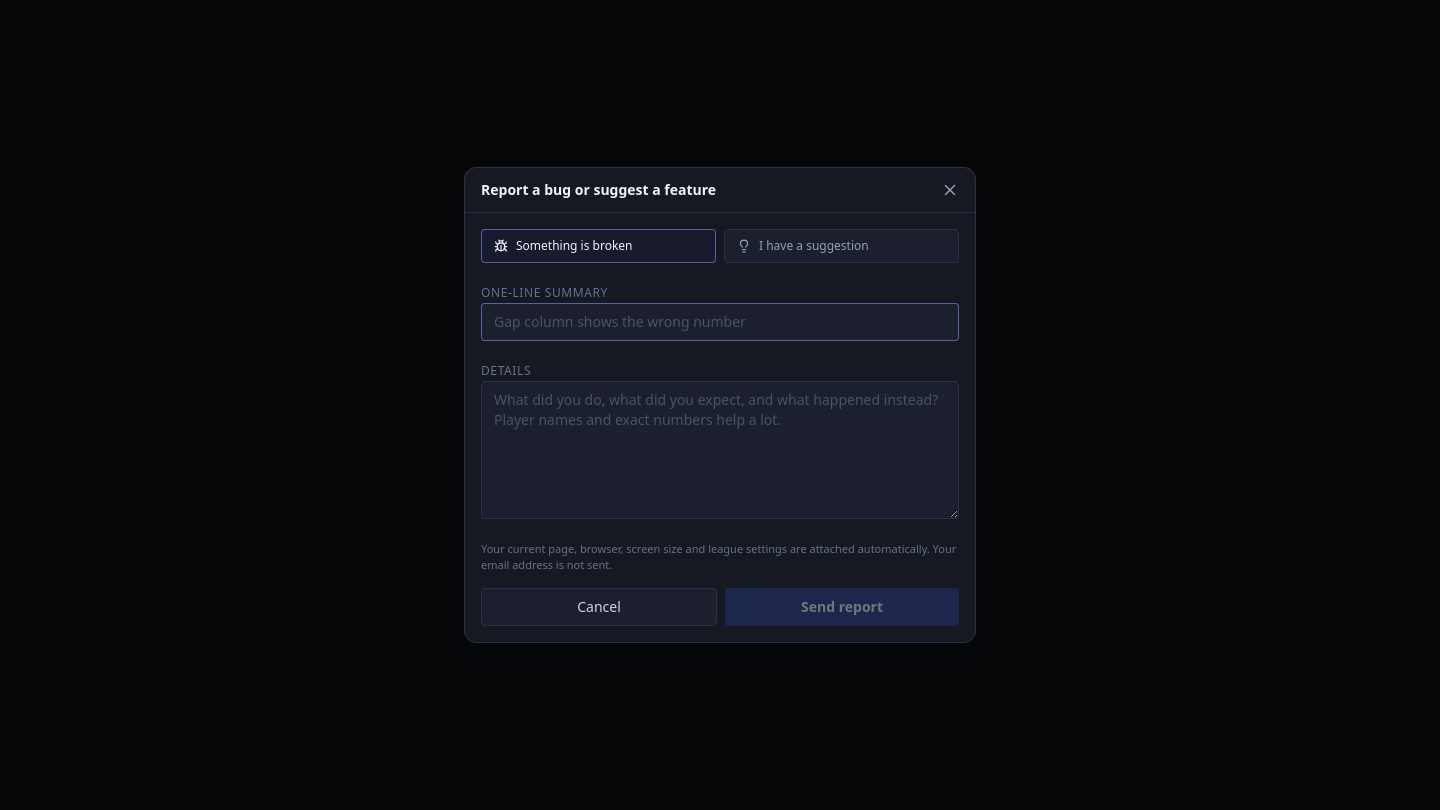
Scenario: FeedbackModal › confirms generically — no issue number, no tracker name, no link
The width and height of the screenshot is (1440, 810).
Type "Gap column is wrong" into the field with placeholder "Gap column shows the wrong number". click: (720, 322)
box: [481, 303, 959, 341]
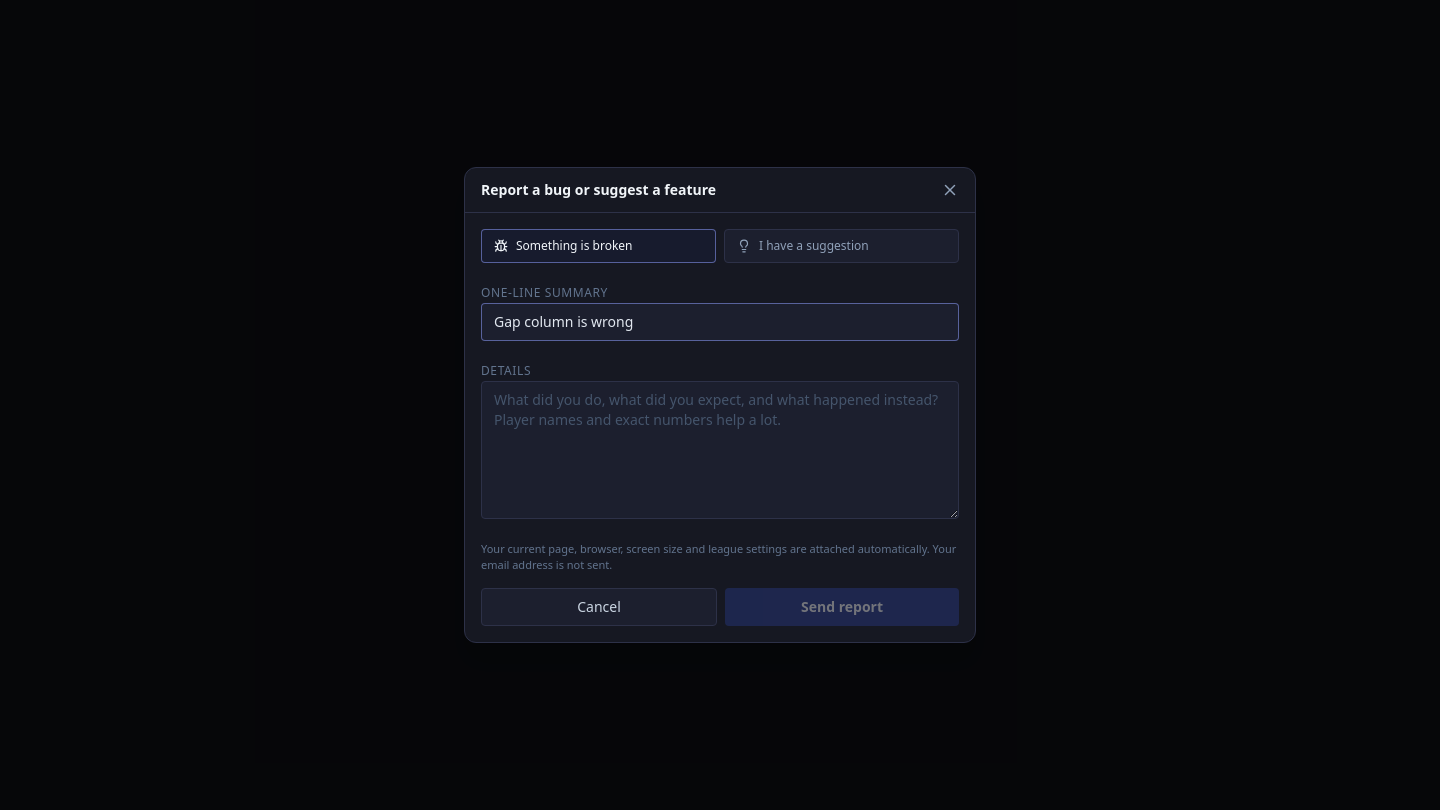
Replace the text in the text box with placeholder "What did you do" with "On half-PPR the gap does not match the ceiling shown.". click: (720, 450)
box: [481, 381, 959, 519]
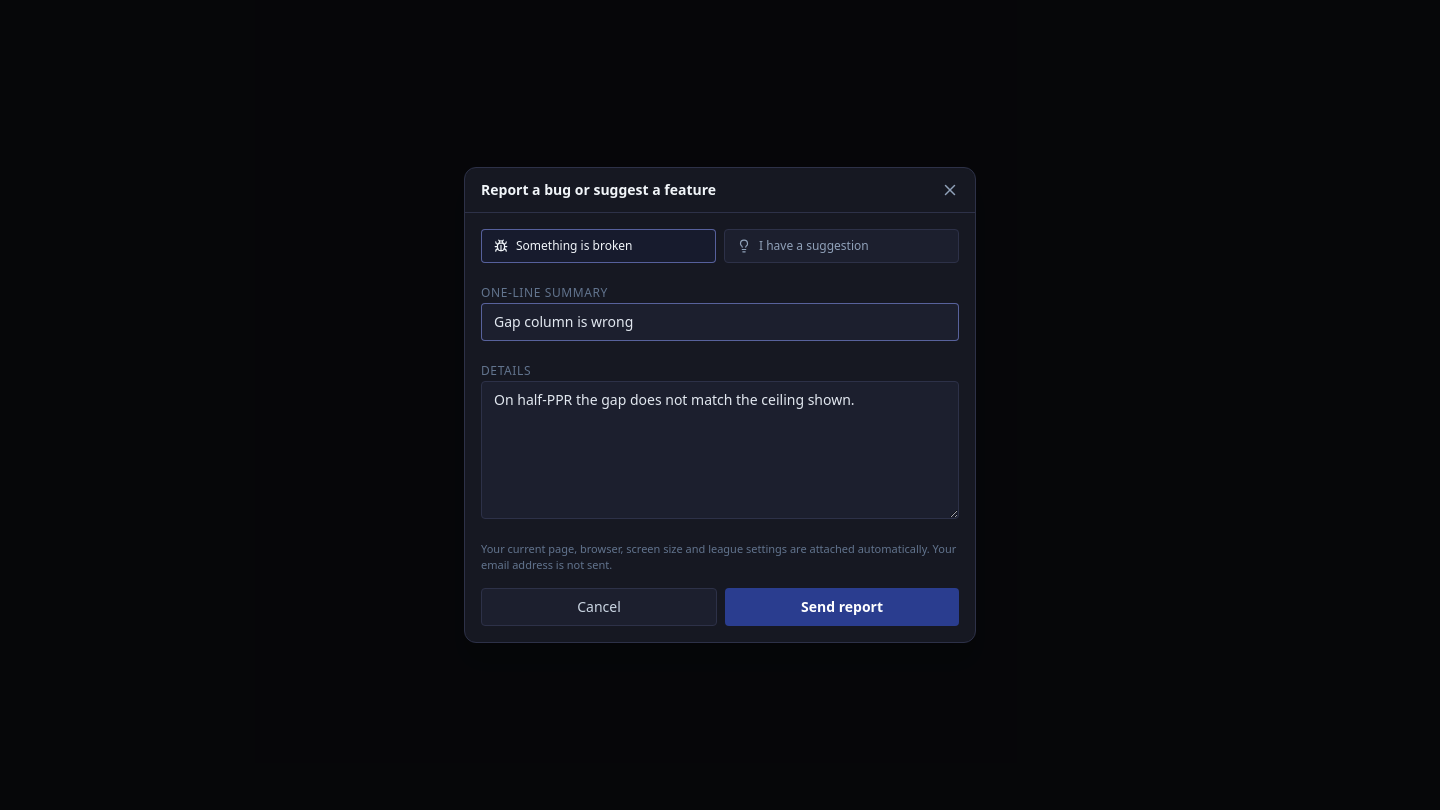
Click the button "Send report". click: (842, 607)
box: [725, 588, 959, 626]
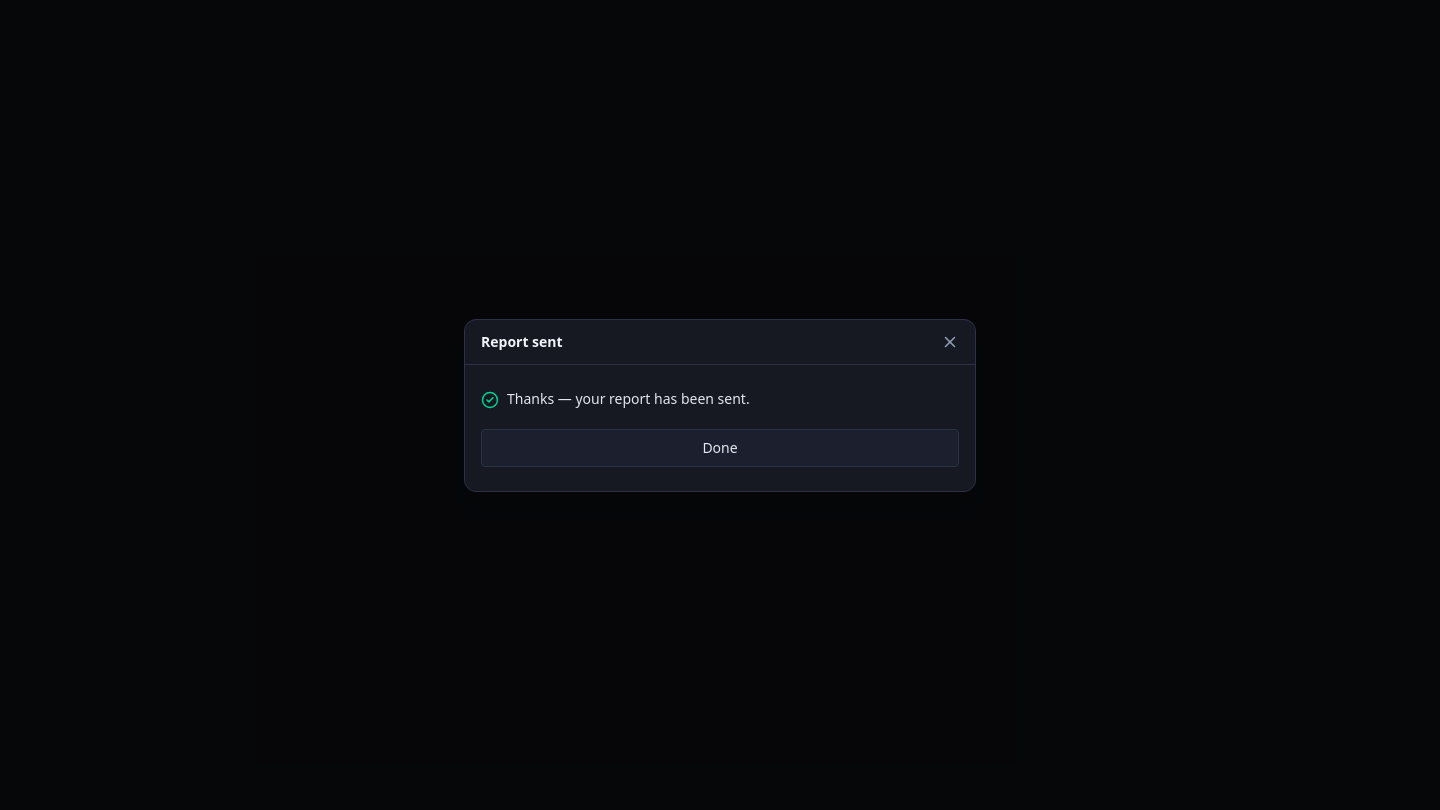
Check: the text "Thanks — your report has been sent." is shown, box [507, 388, 750, 408]
